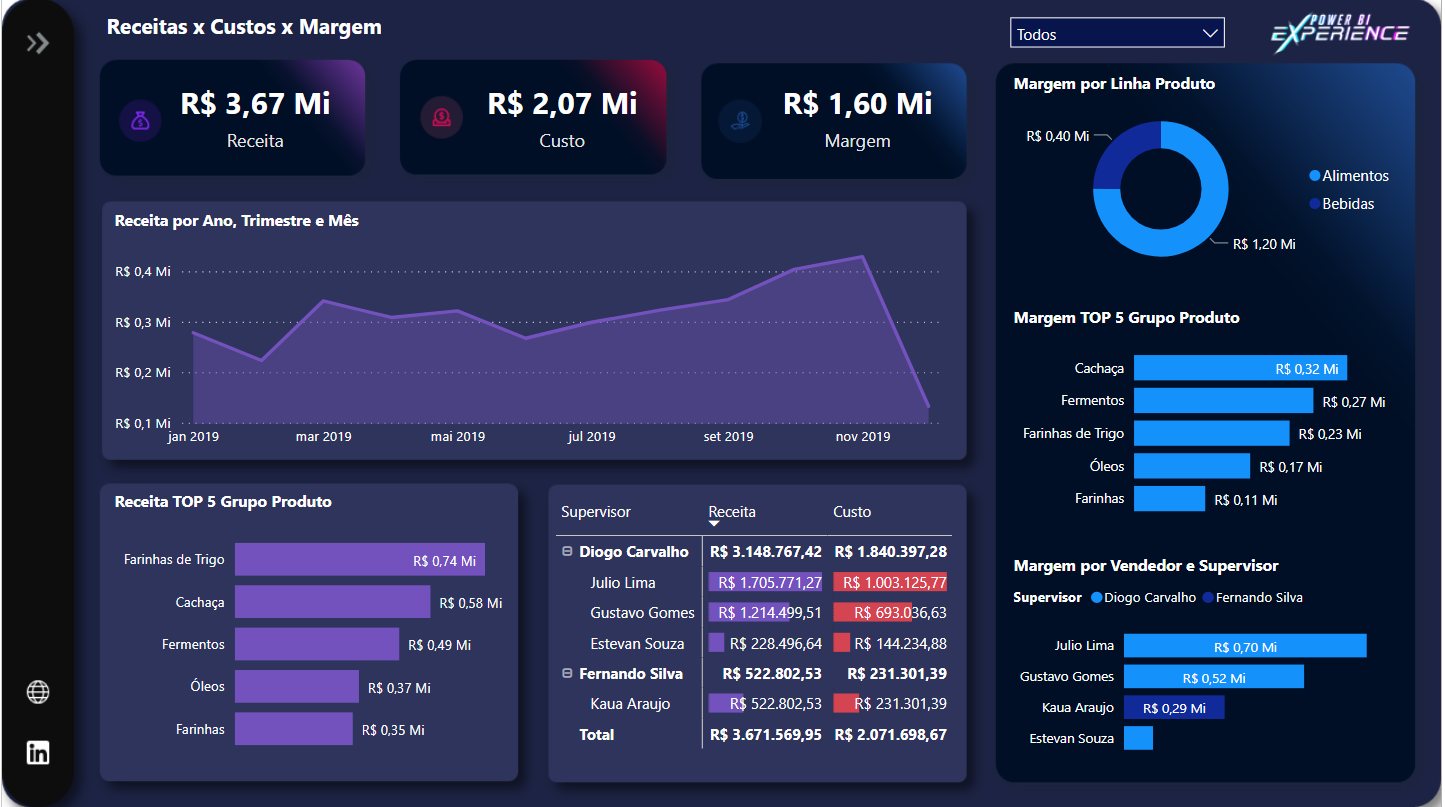

The page's visual inventory and layout, read from the dashboard file:
{"tool":"powerbi","page":{"name":"Dark","canvas":[1280,720],"ordinal":0},"visuals":[{"type":"card","fields":{"Values":["Receita.Receita"]},"box":[131.1,62.6,188.9,85.4],"z":0},{"type":"barChart","title":"Receita TOP 5 Grupo Produto","fields":{"Category":["Cadastro de Produtos.Grupo Produto"],"Y":["Receita.Receita"]},"box":[95,437.9,358.5,247.8],"z":1000},{"type":"pivotTable","fields":{"Rows":["Receita.Supervisor","Receita.Vendedor"],"Values":["Receita.Receita","Receita.Custo"]},"box":[487.2,437.9,374.1,247.8],"z":2000},{"type":"areaChart","fields":{"Category":["Receita.Data.Variation.Hierarquia de datas.Ano","Receita.Data.Variation.Hierarquia de datas.Trimestre","Receita.Data.Variation.Hierarquia de datas.Mês","Receita.Data.Variation.Hierarquia de datas.Dia"],"Y":["Receita.Receita"]},"box":[95,187.7,759.1,220.2],"z":3000},{"type":"card","fields":{"Values":["Receita.Custo"]},"box":[407.8,62.6,181.7,85.4],"z":4000},{"type":"card","fields":{"Values":["Receita.Margem"]},"box":[667.7,62.6,186.5,85.4],"z":5000},{"type":"barChart","title":"Margem TOP 5 Grupo Produto","fields":{"Category":["Cadastro de Produtos.Grupo Produto"],"Y":["Receita.Margem"]},"box":[895,274.3,353.7,199.7],"z":6000},{"type":"barChart","fields":{"Y":["Receita.Margem"],"Category":["Receita.Vendedor"],"Series":["Receita.Supervisor"]},"box":[895,494.4,353.7,191.3],"z":7000},{"type":"donutChart","fields":{"Y":["Receita.Margem"],"Category":["Cadastro de Produtos.Linha Produto"]},"box":[895,66.2,353.7,188.9],"z":8000},{"type":"slicer","fields":{"Values":["Receita.Data.Variation.Hierarquia de datas.Mês"]},"box":[886.6,7.2,210.5,52.9],"z":9000},{"type":"textbox","box":[87.8,7.2,387.4,52.9],"z":10000},{"type":"actionButton","box":[0,16.8,60.2,49.3],"z":11000},{"type":"actionButton","box":[0,590.7,60.2,49.3],"z":12000},{"type":"actionButton","box":[0,643.6,60.2,49.3],"z":13000}]}

Visuals, with their boxes in screenshot pixels (x1, y1, x2, y2), scaled from the page's 1280x720 canvas onto the 1445x807 screenshot:
card - Receita.Receita: 148/70/361/166
"Receita TOP 5 Grupo Produto" barChart: 107/491/512/769
pivotTable - Receita.Supervisor x Receita.Vendedor: 550/491/972/769
areaChart - Receita.Data.Variation.Hierarquia de datas.Ano x Receita.Data.Variation.Hierarquia de datas.Trimestre: 107/210/964/457
card - Receita.Custo: 460/70/665/166
card - Receita.Margem: 754/70/964/166
"Margem TOP 5 Grupo Produto" barChart: 1010/307/1410/531
barChart - Receita.Margem x Receita.Vendedor: 1010/554/1410/769
donutChart - Receita.Margem x Cadastro de Produtos.Linha Produto: 1010/74/1410/286
slicer - Receita.Data.Variation.Hierarquia de datas.Mês: 1001/8/1239/67
textbox: 99/8/536/67
actionButton: 0/19/68/74
actionButton: 0/662/68/717
actionButton: 0/721/68/777
